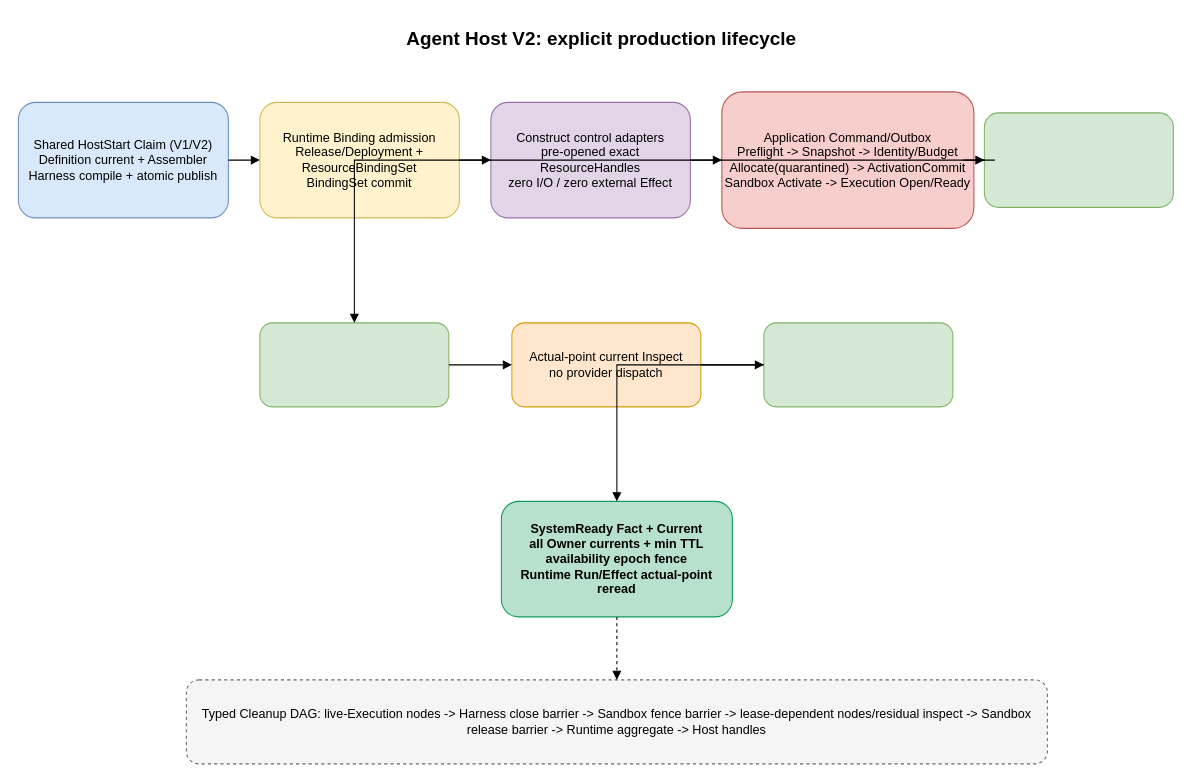
This 1192x782 diagram has some shape labels left out. Each missing label, with the centre of its shape:
"All required Owner production current S1" belongs at (354,364).
"All required Owner production current S2" belongs at (858,364).
"Generation-Binding Association current" belongs at (1078,159).
